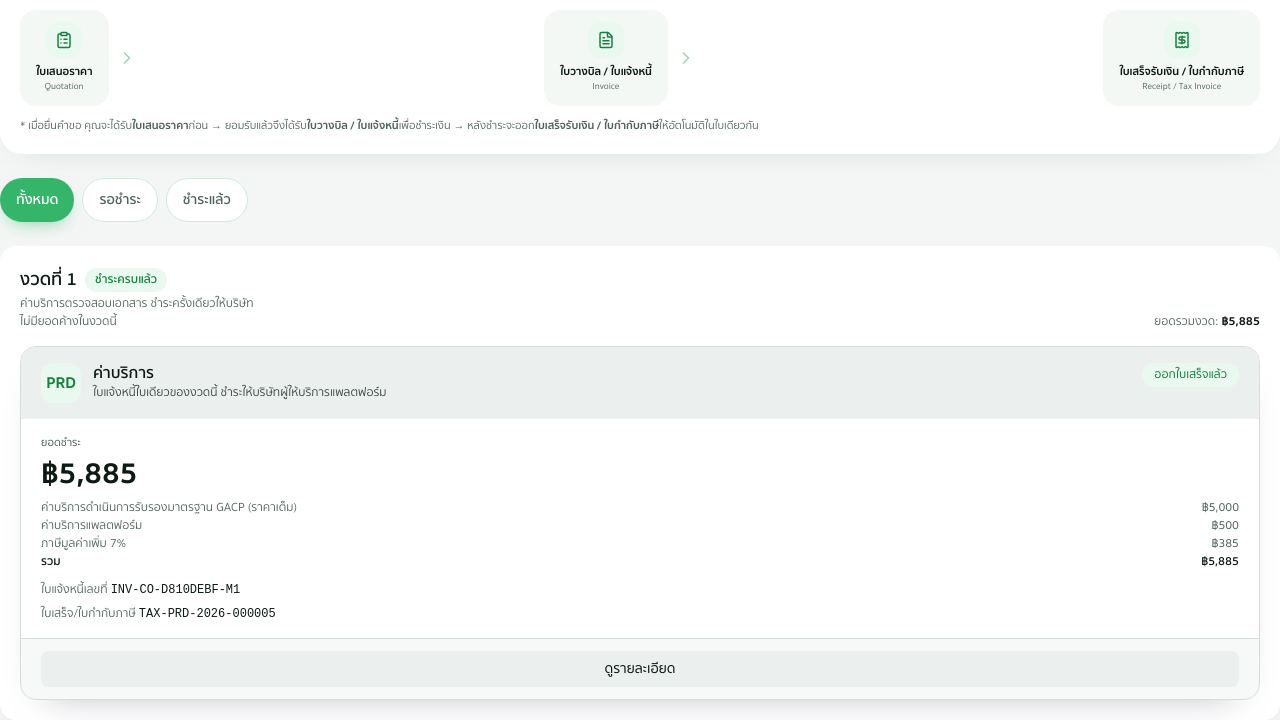
Scenario: HealthPaymentsPage detail modal lists the receipt (F-G4-53) › (a) a receipted checkout row: the dialog names the document exactly as the card does, and dates it in BE
(page scrolled)
Expected: the number of elements with test id "payment-invoice-card-CHECKOUT" is 1, left=20, top=346, right=1260, bottom=700
Click the button "ดูรายละเอียด" at (640, 669), box left=41, top=651, right=1239, bottom=687
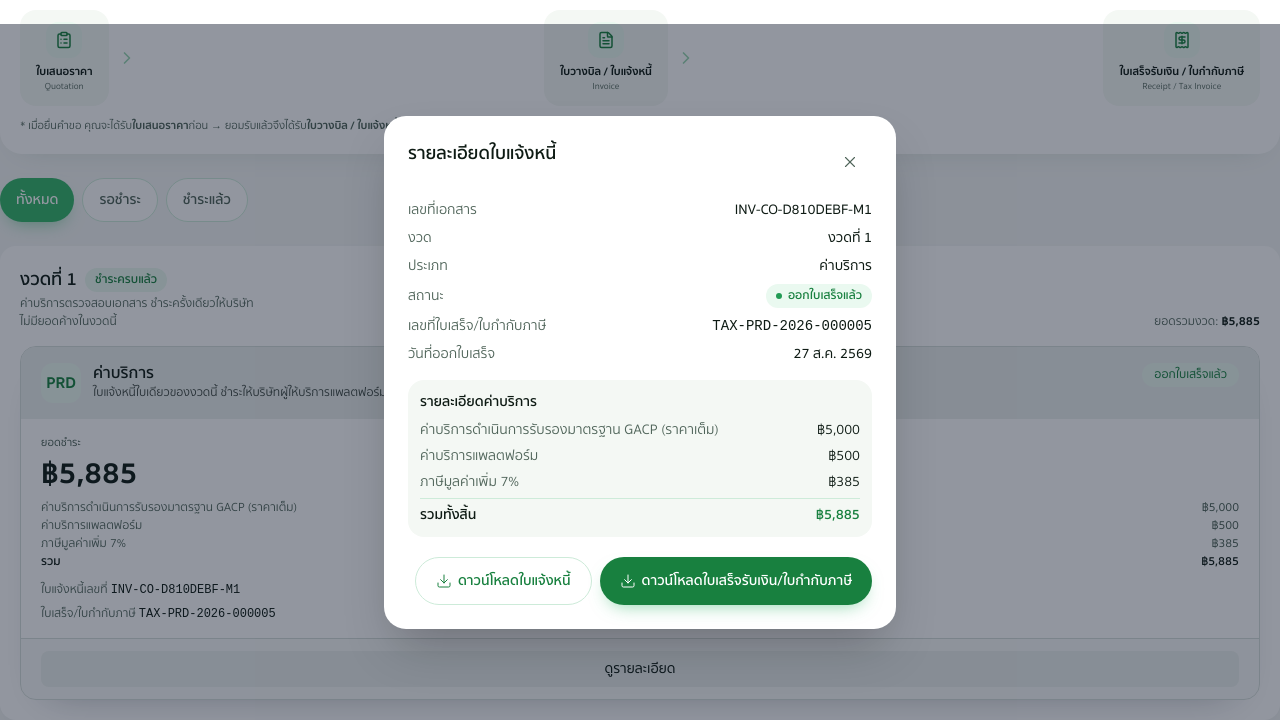
Expected: the dialog shows "วันที่ออกใบเสร็จ", left=408, top=342, right=495, bottom=364
Expected: the dialog shows "2569", left=793, top=342, right=872, bottom=364
